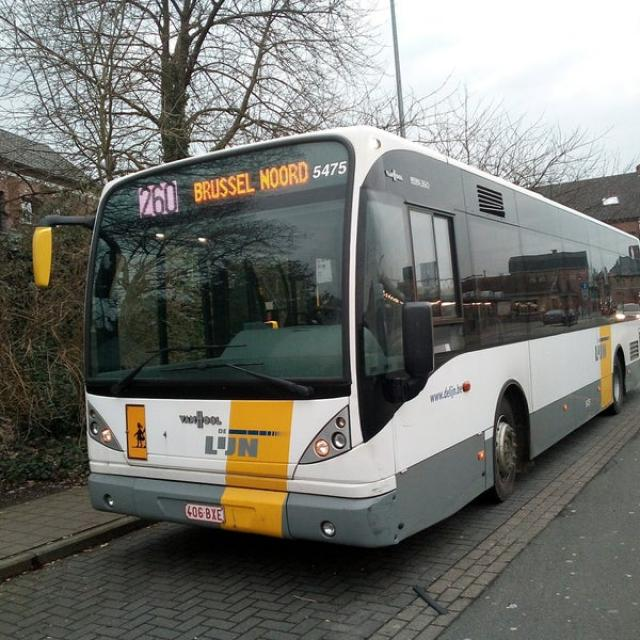bus-number: (136, 180, 182, 220)
